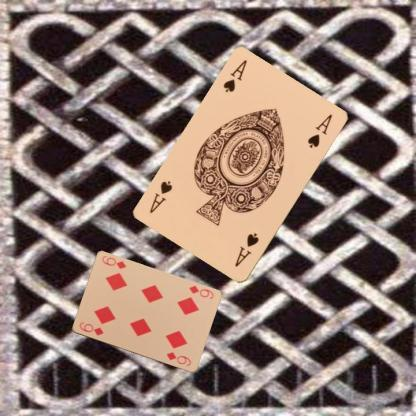6d: (76, 319, 105, 337), (186, 283, 215, 301)
As: (232, 231, 260, 268), (221, 57, 248, 94)
